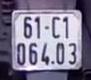0: (53, 41, 66, 66), (15, 40, 27, 66)
1: (62, 13, 70, 40), (34, 14, 42, 40)
3: (68, 41, 78, 66)
4: (39, 42, 51, 66)
6: (21, 13, 34, 40), (27, 41, 40, 65)
C: (51, 16, 61, 39)
